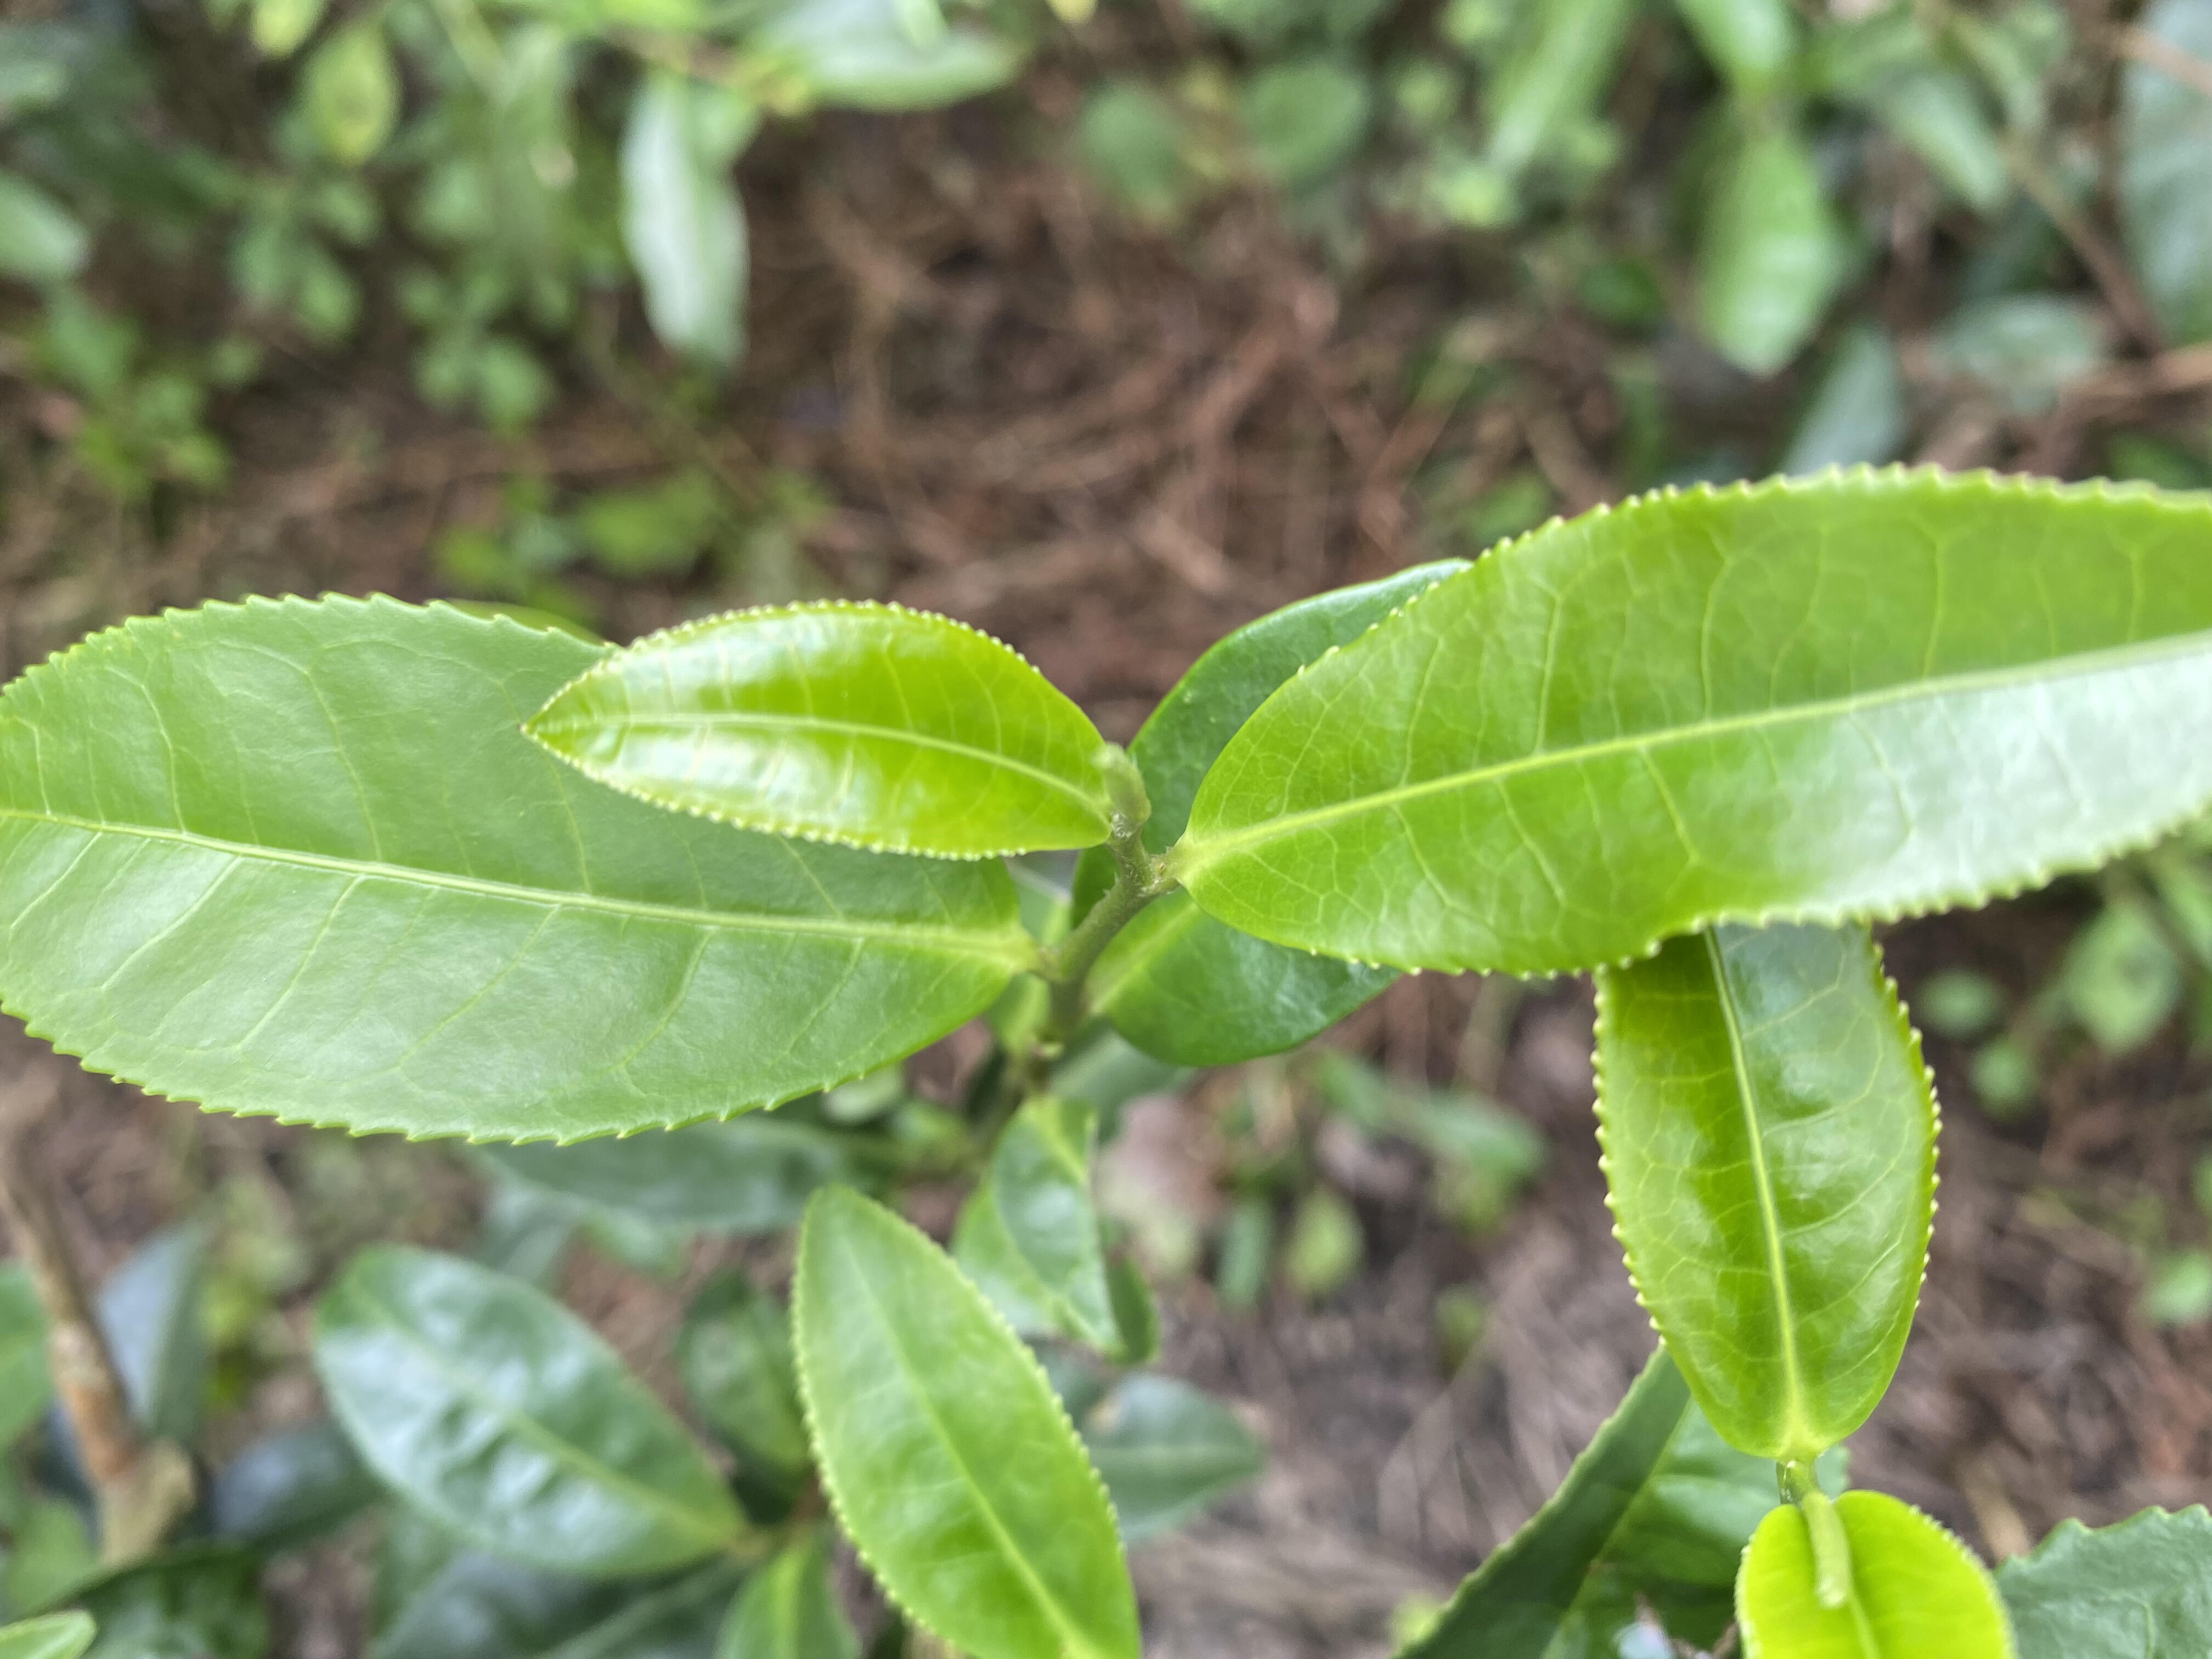healthy: (3, 591, 1024, 1143), (1190, 458, 2212, 983), (1587, 920, 1940, 1459), (787, 1180, 1148, 1659), (523, 596, 1130, 863)
